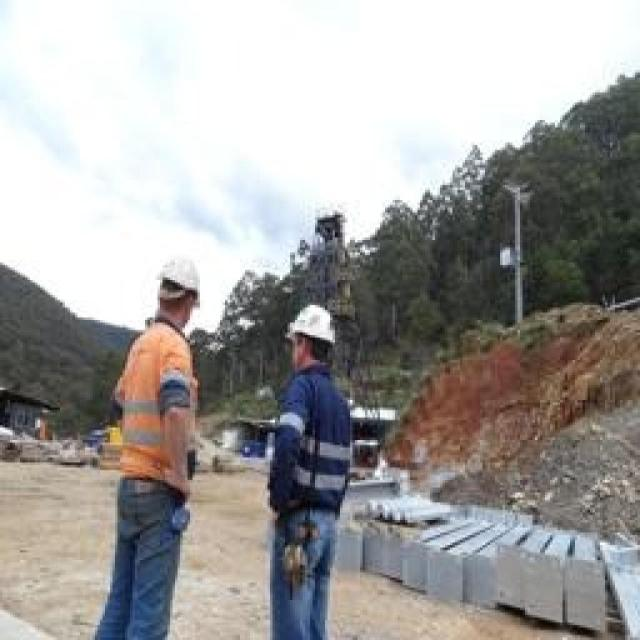Helmet: (102, 320, 207, 524), (263, 364, 375, 538), (137, 247, 215, 330), (280, 286, 345, 366)
